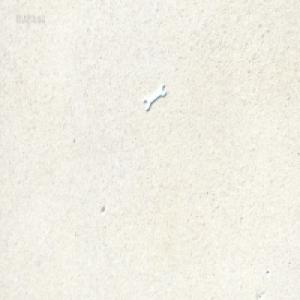Wrench: (143, 81, 166, 111)
